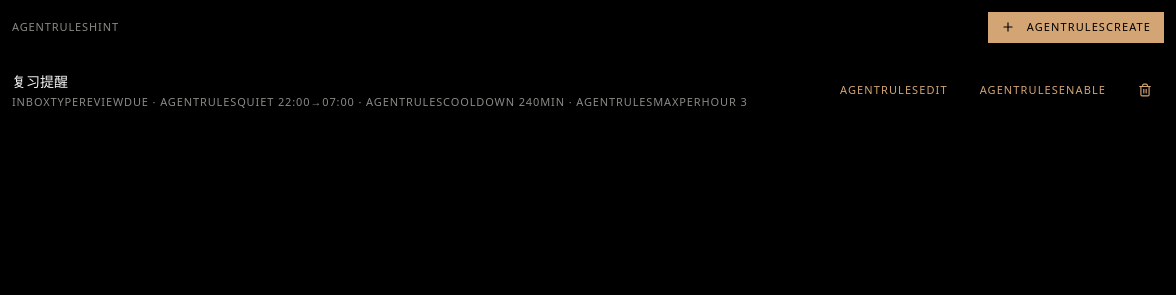
AgentRulesPanel › 新建规则：展开表单提交后追加到列表
Expected: the text "复习提醒" is shown, top-left (12, 72), bottom-right (68, 90)
Click the button "agentRulesCreate": x=1076, y=27 top-left (988, 12), bottom-right (1164, 42)
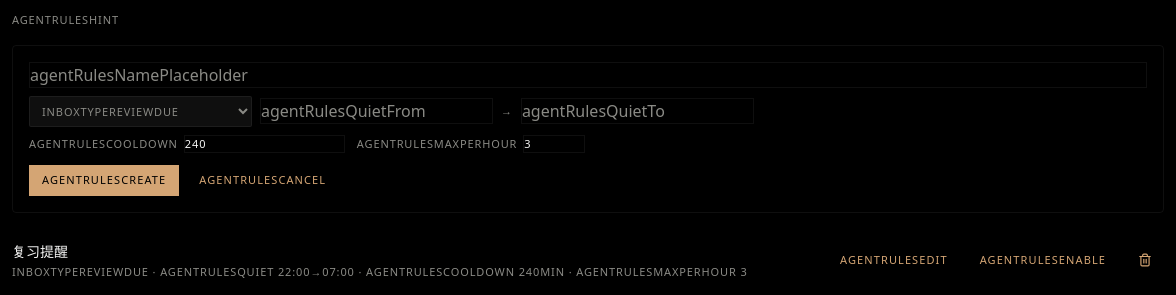
In the field labelled "agentRulesNamePlaceholder": x=588, y=74 top-left (29, 62), bottom-right (1147, 88), type "考试冲刺"
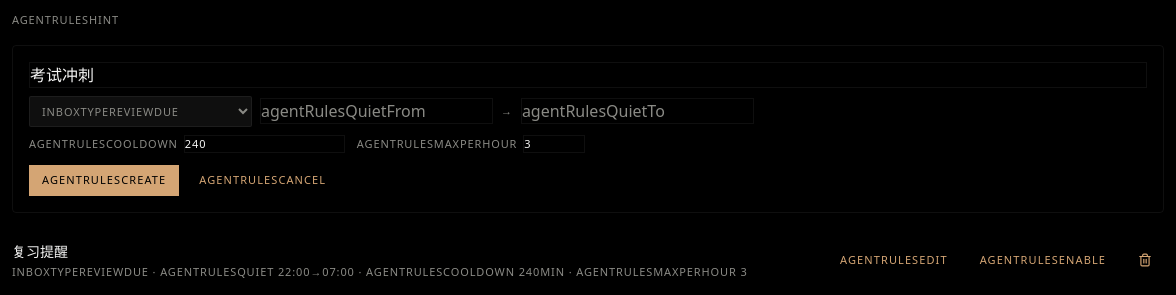
Click the button "agentRulesCreate": x=104, y=180 top-left (29, 165), bottom-right (179, 196)
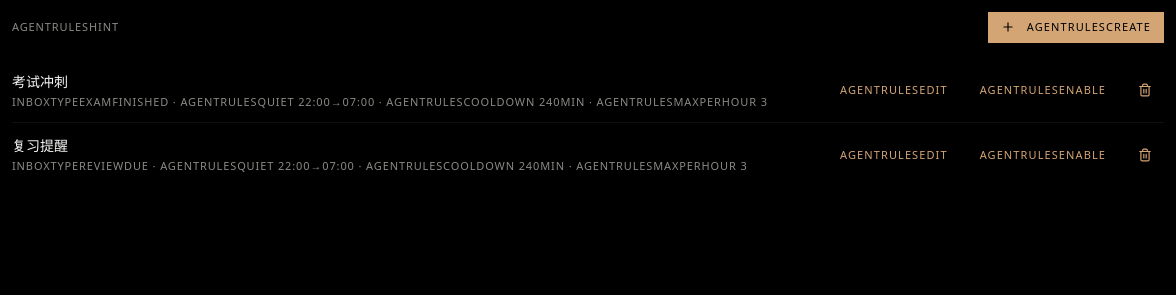
Expected: the text "考试冲刺" is shown, top-left (12, 72), bottom-right (68, 90)
